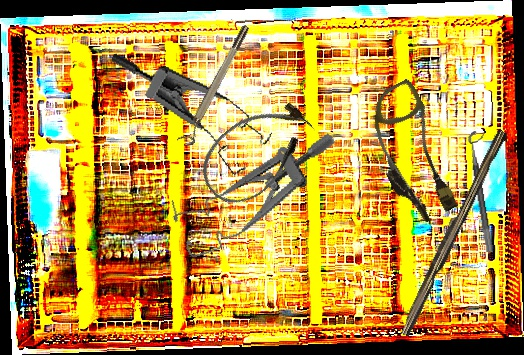Cannula: (350, 77, 474, 229), (188, 87, 325, 217)
Fixation Ring: (176, 23, 257, 149), (466, 129, 504, 253)
Scalpel Handle: (396, 126, 508, 339)
Speculum: (161, 129, 357, 262), (90, 51, 282, 182)
